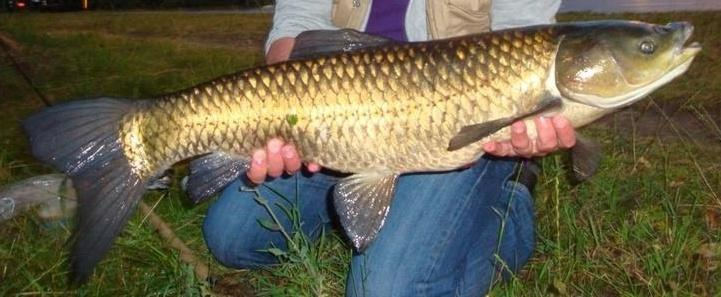Grass Carp: (25, 19, 703, 279)
